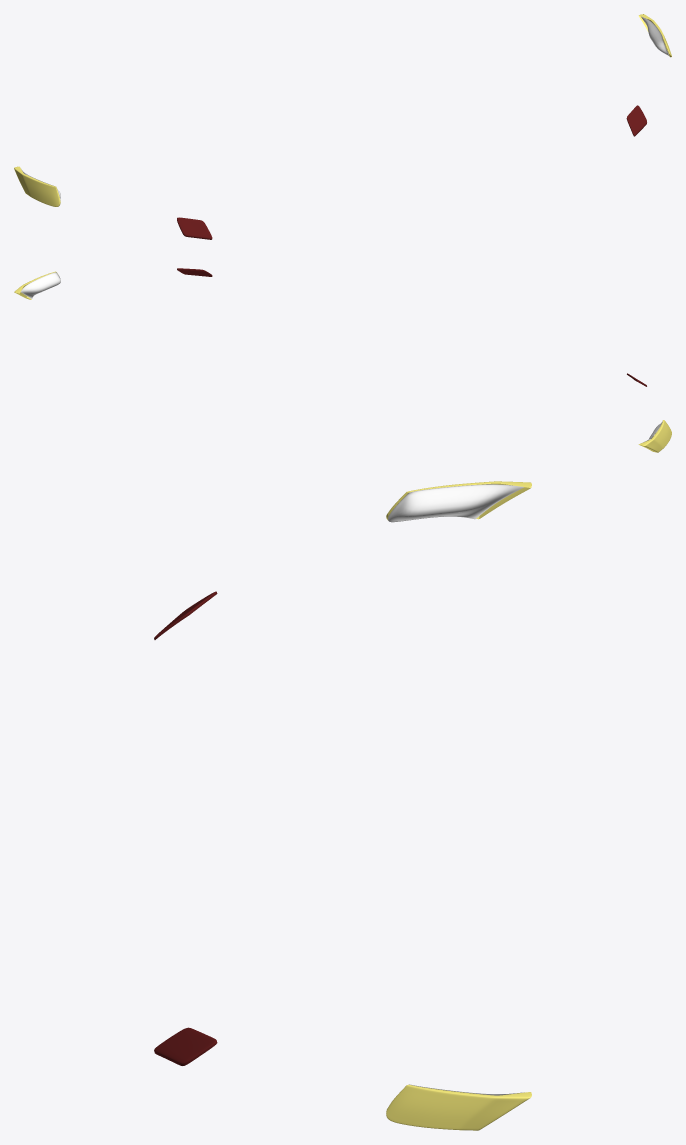
The model's file is TurnIndicators.fbx.
3 views of the same model, one above another, from view 1: azimuth 30°, elevation 25°; view 2: azimuth 150°, elevation 25°; view 3: azimuth 270°, elevation 25° (orthographic). The views are drawn at different scales.
Parts seen in each view (by area): view 1: Turn indicators; view 2: Turn indicators; view 3: Turn indicators.
Part boxes in pixels (x1,y1,x2,y2): Turn indicators: (14, 14, 671, 239); Turn indicators: (14, 268, 671, 452); Turn indicators: (154, 481, 531, 1130).
Size of the model in its own units: 2409 by 106 by 622.
